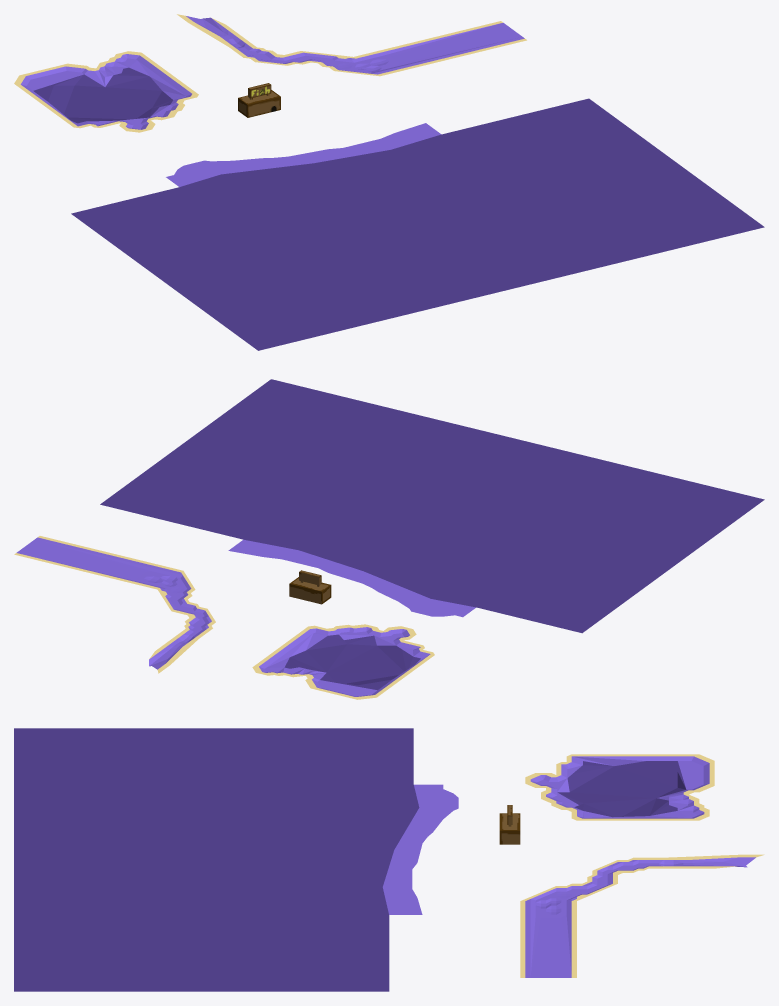
File: InteractableFishSpots.fbx
3 renders of one model, top to bottom at view 1: azimuth 30°, elevation 25°; view 2: azimuth 150°, elevation 25°; view 3: azimuth 270°, elevation 25°, orthographic. The views are drawn at different scales.
Parts seen in each view (by area): view 1: Sea, Lake, River, FihBar; view 2: Sea, Lake, River, FihBar; view 3: Sea, Lake, River, FihBar.
Boxes of the visible parts, bbox=[...] form: Sea: bbox=[71, 98, 764, 350]; Lake: bbox=[14, 51, 198, 132]; River: bbox=[177, 14, 526, 76]; FihBar: bbox=[238, 83, 280, 117]; Sea: bbox=[100, 379, 764, 633]; Lake: bbox=[252, 624, 434, 699]; River: bbox=[14, 536, 215, 673]; FihBar: bbox=[289, 570, 331, 604]; Sea: bbox=[14, 728, 458, 991]; Lake: bbox=[525, 754, 714, 820]; River: bbox=[520, 854, 764, 977]; FihBar: bbox=[499, 805, 520, 844].
Size of the model in its own units: 5458 by 383 by 6570.
4 materials, 1 textured.
